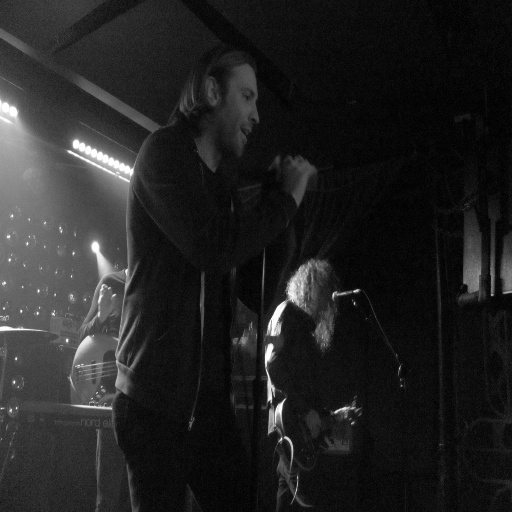hand: (269, 158, 321, 206), (97, 282, 117, 322), (303, 407, 321, 439), (264, 154, 282, 185), (347, 403, 363, 426)
